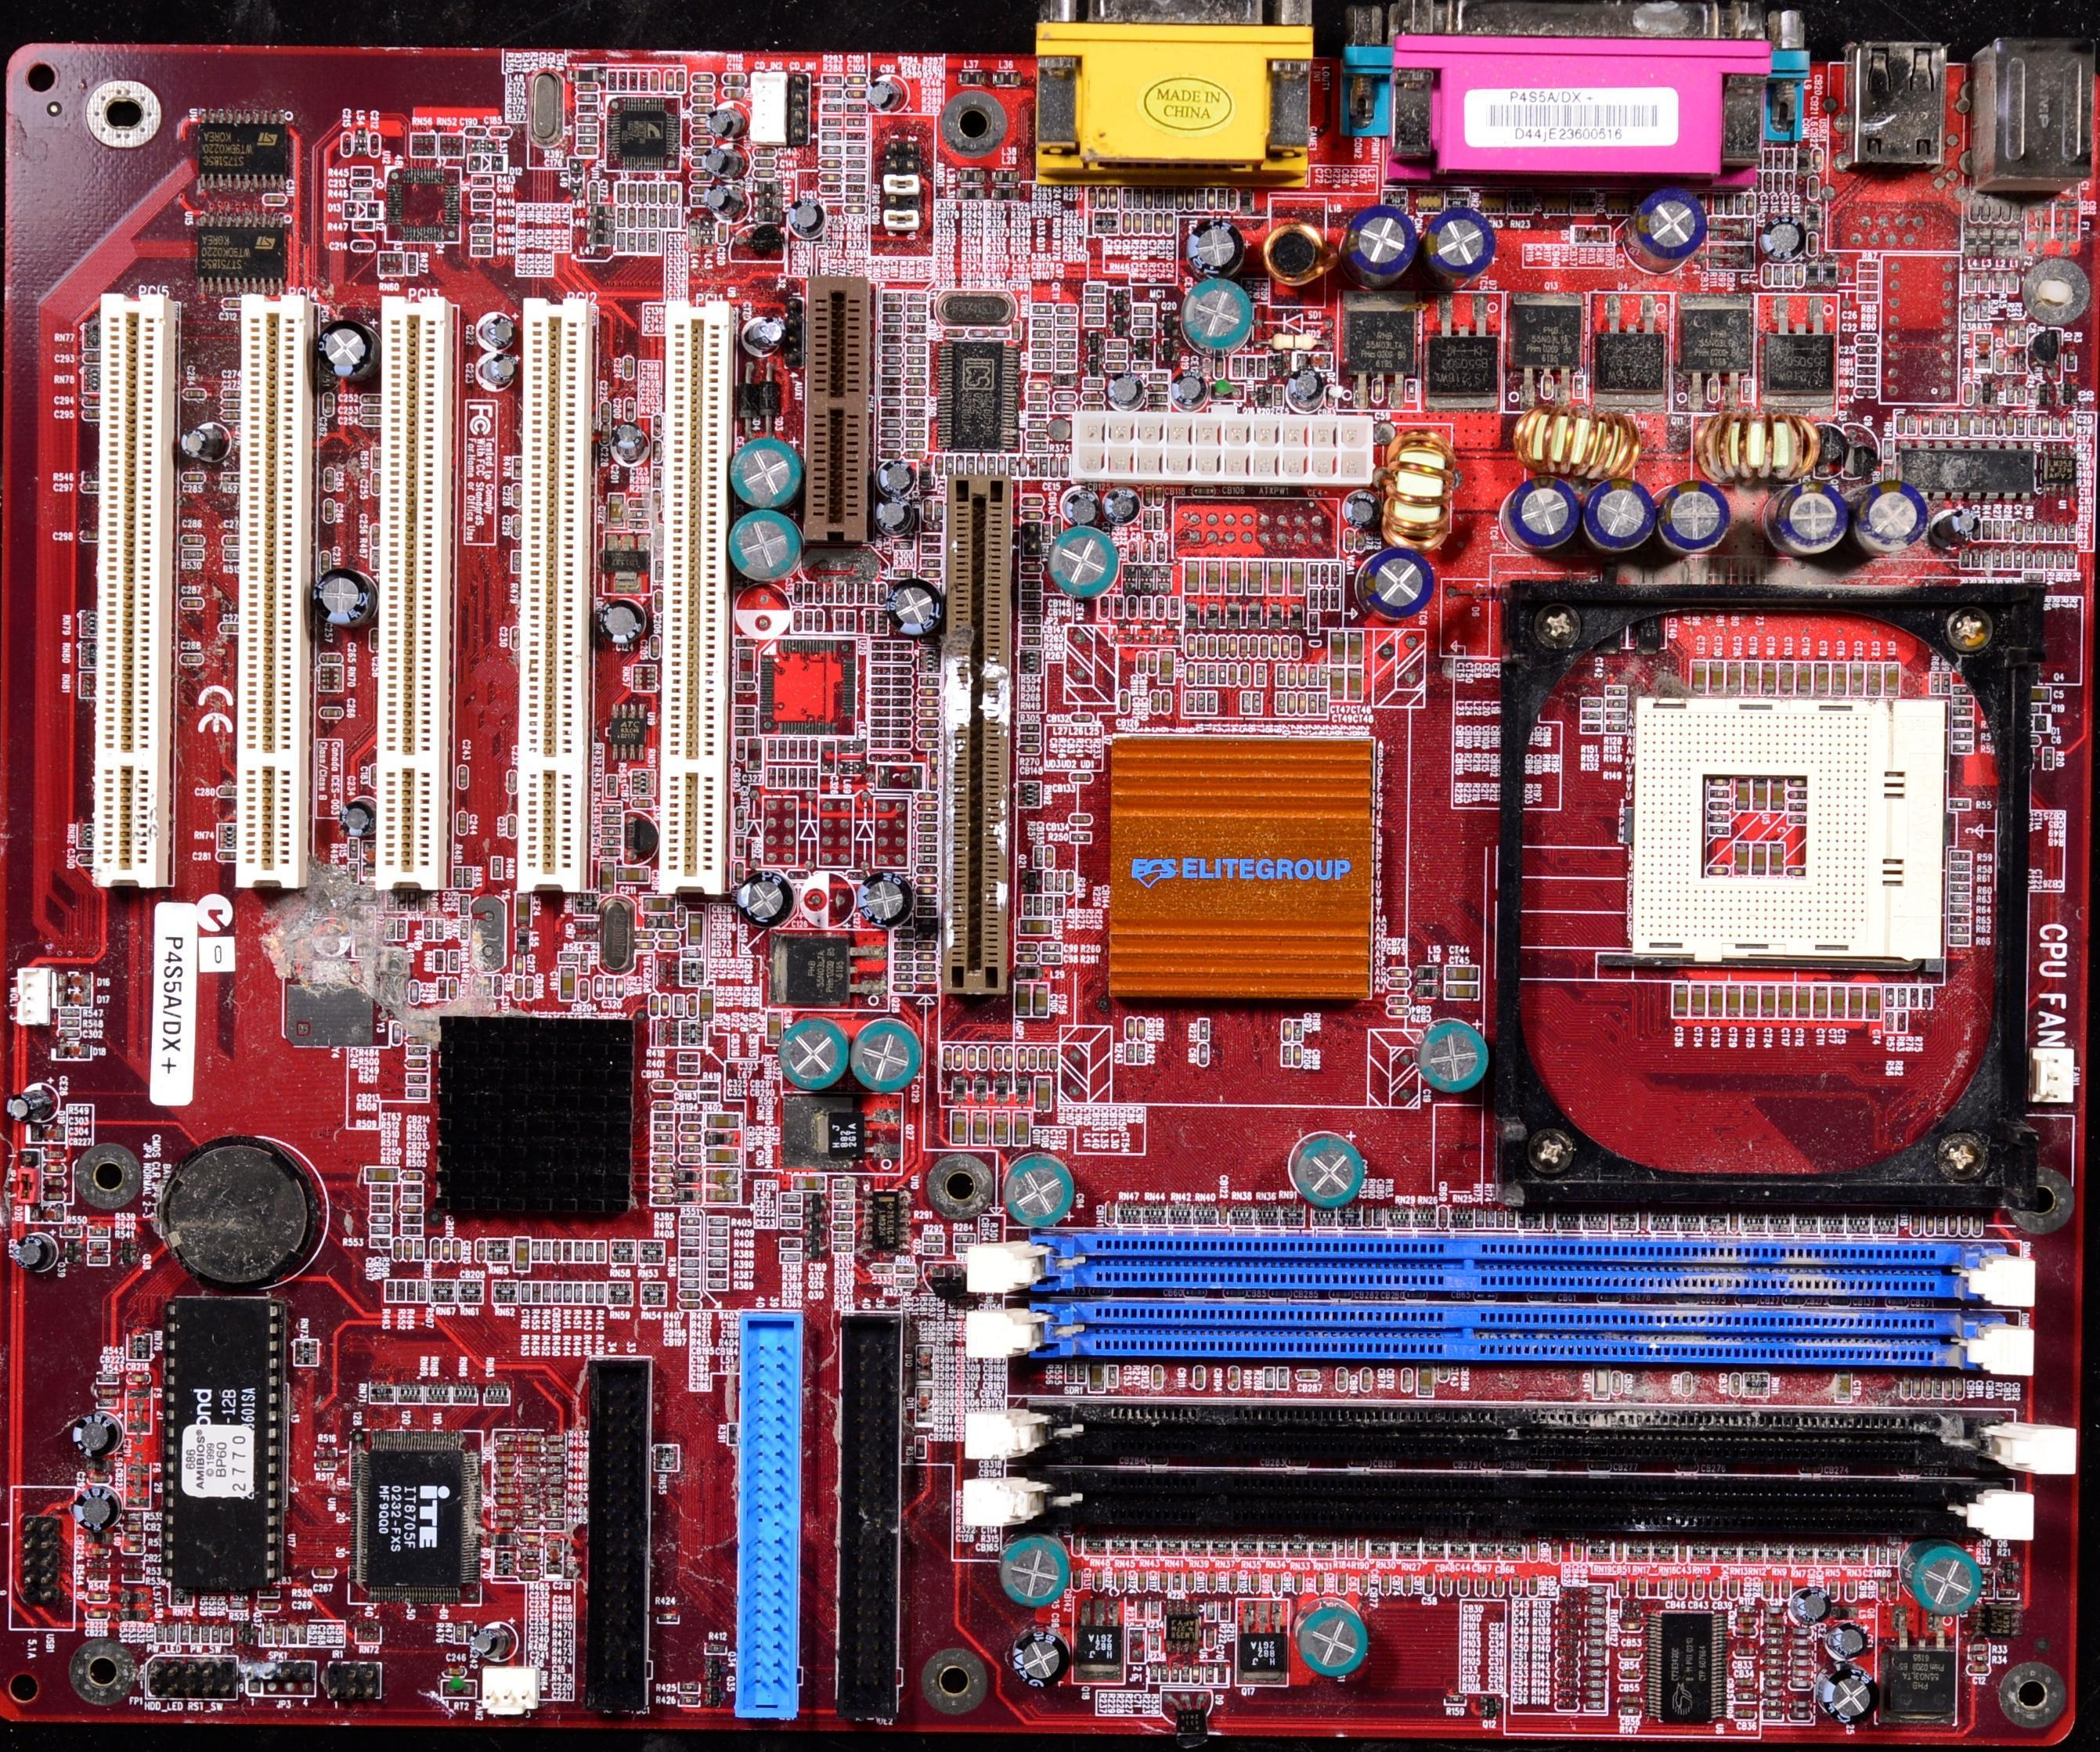Capacitor: (806, 882, 843, 917), (870, 881, 902, 914), (747, 881, 782, 911), (486, 315, 514, 342), (345, 805, 373, 831), (20, 1091, 49, 1111), (641, 896, 673, 910), (560, 970, 575, 997), (492, 359, 514, 379), (1418, 1369, 1433, 1393), (709, 1116, 738, 1127), (707, 1170, 734, 1182), (768, 1013, 781, 1036), (1016, 1116, 1029, 1139), (796, 1176, 822, 1188), (518, 1238, 528, 1265), (954, 1116, 964, 1141), (1037, 1081, 1047, 1104), (973, 1116, 983, 1138), (996, 1116, 1007, 1139), (712, 1188, 734, 1199), (1544, 373, 1553, 400), (709, 1149, 729, 1159), (185, 598, 202, 610), (752, 741, 761, 766), (618, 869, 637, 879), (1036, 990, 1046, 1009), (1841, 1377, 1850, 1396), (85, 1610, 105, 1620), (456, 764, 467, 783), (1071, 773, 1091, 784), (691, 914, 700, 939), (464, 128, 487, 135), (1400, 1577, 1409, 1600), (2032, 686, 2045, 700), (1021, 990, 1030, 1011), (45, 1191, 67, 1199), (370, 132, 378, 152), (1250, 1573, 1261, 1591), (1269, 1574, 1281, 1592), (1206, 1627, 1214, 1648), (947, 327, 965, 337), (1440, 1202, 1447, 1227), (1019, 942, 1037, 950), (702, 993, 709, 1013), (372, 1170, 390, 1179), (488, 128, 507, 135), (129, 1375, 148, 1384), (1073, 1538, 1081, 1557), (1621, 1699, 1640, 1706), (618, 186, 626, 204), (651, 415, 659, 434), (320, 553, 331, 569), (344, 132, 350, 155), (507, 817, 515, 835), (406, 1073, 424, 1082), (1362, 1208, 1370, 1225), (1900, 1379, 1907, 1396), (1734, 1648, 1751, 1656), (1775, 174, 1784, 192), (2067, 416, 2075, 434), (510, 516, 518, 534), (1023, 564, 1041, 572), (1129, 598, 1138, 616), (651, 636, 659, 654), (369, 767, 377, 784), (1705, 777, 1723, 784), (508, 773, 514, 793), (1337, 1574, 1343, 1595), (821, 157, 834, 168), (373, 525, 381, 545), (220, 786, 235, 795), (1710, 801, 1725, 809), (1196, 1369, 1203, 1385), (1676, 1545, 1685, 1561), (1315, 1574, 1324, 1590), (1226, 1576, 1235, 1592), (1357, 1577, 1366, 1592), (1622, 1650, 1637, 1659), (590, 184, 599, 200), (410, 982, 417, 1000), (1796, 267, 1803, 287), (1962, 416, 1969, 434), (994, 328, 1006, 337), (635, 798, 648, 807), (77, 856, 90, 865), (453, 982, 459, 999), (683, 1114, 699, 1120), (1106, 1204, 1113, 1221), (1638, 1212, 1645, 1228), (478, 1242, 485, 1260), (1229, 1369, 1237, 1386), (1730, 1375, 1737, 1393), (1532, 1541, 1538, 1558), (316, 1569, 333, 1577), (1094, 1573, 1102, 1586), (1118, 1571, 1125, 1588), (1139, 1573, 1146, 1591), (1295, 1574, 1303, 1592), (1424, 1577, 1431, 1593), (1618, 1580, 1626, 1593), (1966, 1667, 1983, 1674), (1189, 1666, 1198, 1681), (669, 184, 675, 203), (1089, 190, 1095, 208), (1122, 215, 1131, 229), (1997, 355, 2004, 371), (1710, 380, 1716, 398), (1858, 388, 1872, 398), (323, 499, 332, 515), (185, 534, 200, 542), (794, 585, 801, 601), (655, 591, 663, 609), (794, 611, 800, 627), (511, 631, 518, 648), (735, 639, 753, 645), (895, 654, 912, 661), (893, 688, 910, 696), (1164, 692, 1171, 709), (576, 82, 592, 89), (1710, 868, 1725, 876), (1293, 1048, 1300, 1063), (969, 1051, 976, 1067), (655, 1186, 669, 1192), (404, 1206, 420, 1213), (1545, 1213, 1552, 1228), (1730, 1214, 1737, 1228), (1936, 1217, 1943, 1233), (833, 1223, 850, 1229), (453, 1242, 459, 1257), (1405, 1372, 1410, 1388), (1186, 1571, 1193, 1586), (1207, 1574, 1214, 1590), (1382, 1577, 1388, 1593), (1624, 1623, 1640, 1630), (1559, 1668, 1575, 1676), (1739, 1710, 1755, 1718), (1136, 215, 1142, 229), (352, 243, 368, 251), (1763, 267, 1771, 283), (1855, 345, 1869, 351), (87, 351, 98, 363), (362, 396, 377, 403), (1057, 403, 1072, 409), (373, 475, 380, 491), (1127, 541, 1133, 556), (1243, 639, 1248, 654), (1788, 777, 1803, 782), (1441, 1579, 1450, 1592), (81, 532, 93, 540), (738, 863, 742, 881), (580, 980, 586, 999), (662, 996, 669, 1015), (406, 1238, 411, 1256), (2007, 326, 2013, 345), (906, 337, 925, 341), (1373, 378, 1377, 398), (1070, 817, 1085, 823), (897, 986, 911, 991), (1005, 1051, 1011, 1065), (1019, 1052, 1025, 1066), (681, 1083, 695, 1089), (45, 1177, 59, 1183), (1299, 1371, 1314, 1378), (1363, 1372, 1370, 1386), (1613, 1375, 1620, 1390), (1954, 1382, 1960, 1396), (1571, 1542, 1579, 1556), (1527, 1578, 1534, 1592), (1679, 1581, 1684, 1595), (1847, 1581, 1854, 1595), (1764, 1581, 1770, 1595), (259, 1604, 274, 1610), (1561, 1619, 1575, 1626), (1561, 1629, 1575, 1635), (1559, 1649, 1573, 1656), (1795, 1683, 1809, 1689), (354, 181, 369, 189), (224, 299, 238, 307), (1014, 323, 1021, 336), (1859, 337, 1873, 343), (626, 359, 633, 373), (906, 377, 918, 384), (625, 401, 631, 415), (1894, 417, 1902, 431), (882, 430, 897, 437), (2015, 523, 2022, 537), (1157, 600, 1164, 614), (370, 633, 377, 647), (1261, 640, 1268, 654), (1231, 641, 1238, 656), (323, 654, 337, 660), (1139, 654, 1146, 668), (1189, 668, 1194, 681), (1122, 693, 1129, 705), (1073, 716, 1087, 721), (1068, 874, 1073, 890), (1139, 1019, 1145, 1036), (59, 1030, 77, 1036), (1221, 1206, 1226, 1224), (1153, 1369, 1159, 1386), (1340, 1370, 1345, 1387), (1945, 1381, 1950, 1397), (627, 182, 633, 199), (638, 184, 643, 202), (1100, 191, 1106, 209), (1813, 233, 1818, 251), (975, 330, 986, 337), (324, 398, 330, 416), (604, 401, 609, 418), (654, 442, 660, 461), (324, 470, 330, 486), (1347, 532, 1352, 550), (1142, 541, 1147, 557), (697, 85, 709, 91), (659, 932, 671, 938), (1044, 954, 1055, 961), (1048, 1052, 1055, 1065), (659, 1080, 672, 1087), (659, 1103, 672, 1110), (655, 1166, 668, 1173), (654, 1176, 667, 1182), (525, 1536, 536, 1542), (884, 401, 897, 407), (85, 410, 98, 416), (2041, 418, 2048, 431), (905, 454, 917, 460), (922, 571, 936, 576), (222, 628, 234, 634), (738, 683, 750, 690), (677, 74, 683, 90), (459, 814, 464, 831), (920, 879, 934, 883), (420, 895, 425, 910), (691, 998, 695, 1015), (1129, 1019, 1133, 1036), (1282, 1023, 1287, 1039), (945, 1050, 951, 1065), (692, 106, 708, 111), (683, 1125, 698, 1130), (43, 1166, 59, 1171), (1681, 1375, 1687, 1392), (1359, 1540, 1364, 1555), (89, 1546, 104, 1551), (1614, 1542, 1619, 1558), (1157, 1573, 1163, 1588), (1828, 1583, 1834, 1598), (756, 161, 773, 168), (1764, 174, 1768, 190), (1788, 174, 1792, 190), (1231, 193, 1237, 208), (1156, 214, 1161, 229), (720, 222, 726, 238), (1216, 362, 1221, 376), (1055, 393, 1070, 398), (2005, 416, 2011, 431), (1000, 459, 1004, 474), (1021, 460, 1026, 475), (1050, 460, 1055, 475), (186, 475, 201, 481), (629, 500, 643, 506), (1359, 532, 1363, 548), (849, 586, 854, 601), (1024, 595, 1039, 600), (1100, 599, 1106, 615), (815, 612, 821, 627), (1199, 637, 1204, 654), (1139, 656, 1145, 672), (1150, 656, 1155, 672), (1241, 666, 1247, 681), (920, 690, 936, 695), (1164, 694, 1171, 709), (1290, 696, 1294, 711), (893, 721, 909, 726), (737, 740, 741, 755), (810, 741, 816, 757), (513, 484, 516, 507), (226, 535, 235, 544), (652, 72, 657, 86), (1789, 792, 1799, 799), (666, 74, 672, 87), (851, 77, 861, 83), (1790, 869, 1803, 873), (679, 912, 684, 925), (634, 931, 649, 936), (1042, 944, 1056, 950), (1391, 998, 1405, 1004), (393, 1028, 399, 1043), (411, 1038, 423, 1044), (954, 1051, 959, 1065), (1030, 1054, 1037, 1064), (579, 114, 593, 120), (406, 1171, 420, 1177), (370, 1217, 384, 1223), (1949, 1219, 1954, 1232), (1961, 1221, 1967, 1232), (433, 1240, 437, 1260), (684, 1271, 698, 1276), (684, 1280, 698, 1285), (1438, 1367, 1446, 1378), (1911, 1380, 1916, 1394), (502, 1486, 512, 1492), (578, 148, 591, 153), (127, 1524, 139, 1530), (128, 1545, 139, 1552), (521, 1574, 536, 1580), (1460, 1577, 1466, 1591), (1513, 1579, 1520, 1591), (1564, 1597, 1576, 1602), (1740, 1628, 1750, 1635), (1799, 1650, 1808, 1657), (446, 1670, 460, 1675), (1795, 1671, 1808, 1676), (1620, 1672, 1635, 1678), (1741, 1694, 1755, 1700), (823, 174, 838, 180), (693, 184, 706, 190), (1809, 180, 1814, 194), (1178, 194, 1184, 208), (474, 225, 488, 229), (911, 389, 922, 395), (186, 391, 199, 396), (223, 393, 238, 397), (1085, 395, 1099, 401), (362, 409, 376, 413), (364, 419, 374, 425), (936, 456, 940, 470), (1027, 497, 1038, 503), (1027, 511, 1037, 518), (1023, 582, 1037, 588), (1190, 640, 1196, 653), (1220, 640, 1225, 653), (1281, 641, 1285, 655), (1272, 643, 1278, 654), (1152, 692, 1156, 706), (919, 701, 933, 705), (921, 729, 935, 734), (1023, 747, 1036, 752), (694, 74, 705, 80), (651, 995, 656, 1014), (556, 1243, 561, 1262), (471, 194, 491, 197), (922, 806, 933, 810), (738, 812, 743, 825), (1046, 849, 1052, 862), (919, 867, 931, 872), (920, 888, 931, 892), (1021, 956, 1032, 961), (518, 959, 523, 972), (1392, 969, 1404, 975), (918, 975, 931, 979), (697, 95, 710, 100), (1393, 982, 1406, 987), (1390, 1008, 1403, 1012), (850, 106, 861, 111), (680, 1135, 693, 1140), (655, 1156, 668, 1162), (655, 1198, 668, 1203), (1912, 1219, 1917, 1231), (555, 1285, 559, 1296), (522, 1286, 527, 1299), (524, 1447, 535, 1451), (1549, 1545, 1554, 1556), (523, 1563, 535, 1568), (1660, 1582, 1666, 1595), (1493, 1583, 1499, 1595), (1728, 1583, 1734, 1595), (690, 157, 701, 163), (91, 1592, 103, 1597), (1562, 1610, 1575, 1617), (274, 1631, 280, 1642), (1738, 1679, 1751, 1684), (1766, 1691, 1777, 1696), (1561, 1702, 1574, 1707), (691, 171, 703, 175), (660, 185, 664, 197), (1111, 190, 1116, 202), (1164, 217, 1169, 229), (882, 369, 893, 375), (1031, 382, 1043, 388), (85, 398, 98, 404), (225, 413, 238, 419), (1996, 420, 2001, 432), (883, 441, 894, 445), (956, 458, 961, 470), (1063, 460, 1067, 472), (924, 503, 929, 515), (894, 667, 907, 672), (893, 678, 905, 683), (895, 709, 907, 716), (324, 712, 336, 716), (922, 741, 934, 746), (932, 754, 936, 766), (725, 74, 738, 81), (932, 774, 936, 787), (660, 944, 677, 949), (518, 979, 521, 997), (982, 1050, 986, 1067), (1555, 1693, 1573, 1696), (1230, 666, 1234, 683), (920, 719, 936, 724), (218, 854, 234, 858), (582, 96, 594, 102), (528, 981, 532, 997), (1041, 1054, 1045, 1068), (1926, 1220, 1932, 1231), (395, 1240, 398, 1255), (872, 1267, 888, 1271), (697, 127, 709, 132), (100, 1390, 116, 1393), (526, 1435, 536, 1440), (499, 1445, 510, 1451), (500, 1477, 511, 1481), (498, 1522, 510, 1527), (1476, 1581, 1481, 1592), (1712, 1582, 1719, 1594), (1796, 1628, 1807, 1634), (1561, 1638, 1571, 1642), (1796, 1639, 1806, 1643), (1558, 1658, 1568, 1663), (825, 186, 836, 191), (1748, 196, 1751, 211), (1719, 196, 1723, 212), (851, 205, 861, 211), (718, 226, 723, 242), (1965, 383, 1970, 399), (1084, 404, 1099, 407), (885, 420, 895, 425), (1156, 488, 1160, 504), (1252, 639, 1255, 653), (1210, 638, 1214, 654), (1290, 669, 1293, 684), (920, 711, 935, 714), (922, 796, 936, 800), (919, 827, 933, 831), (920, 955, 933, 958), (445, 1242, 448, 1256), (1923, 1380, 1928, 1394), (497, 1458, 511, 1462), (1639, 1580, 1644, 1593), (1784, 1582, 1788, 1597), (1815, 153, 1820, 168), (1558, 1682, 1571, 1686), (1207, 194, 1211, 207), (980, 458, 983, 473), (1146, 488, 1150, 503), (881, 586, 885, 600), (816, 586, 821, 600), (184, 657, 197, 661), (696, 146, 705, 151), (1769, 1606, 1778, 1611), (1796, 1700, 1806, 1704), (85, 486, 93, 492), (896, 741, 906, 745), (894, 754, 904, 759), (1202, 1047, 1206, 1060), (995, 1052, 999, 1065), (682, 1158, 695, 1162), (682, 1260, 694, 1264), (696, 137, 708, 141), (1796, 1711, 1808, 1716), (1185, 194, 1190, 206), (226, 402, 238, 406), (640, 942, 648, 946), (922, 944, 933, 949), (1975, 1223, 1979, 1232), (684, 1291, 695, 1296), (684, 1302, 695, 1307), (756, 150, 768, 154), (1695, 1582, 1698, 1594), (756, 171, 766, 175), (693, 198, 699, 204), (886, 351, 897, 355), (882, 452, 890, 458), (2031, 737, 2037, 743), (1568, 1587, 1576, 1590), (1770, 1617, 1779, 1622), (1737, 1619, 1754, 1622), (1796, 1661, 1805, 1665), (651, 184, 654, 203), (884, 359, 893, 362), (874, 754, 883, 757), (1157, 541, 1160, 556), (695, 117, 703, 120), (1299, 669, 1301, 684), (1301, 697, 1304, 712), (498, 1498, 511, 1501), (1923, 419, 1926, 431), (850, 92, 859, 95), (500, 1468, 510, 1470)
Connector: (105, 294, 165, 863), (529, 295, 576, 857), (674, 311, 715, 871), (246, 296, 285, 861), (398, 306, 430, 874)
IC: (360, 1437, 467, 1594), (774, 643, 848, 727), (1658, 1614, 1714, 1719), (948, 342, 1001, 452), (204, 229, 280, 283), (200, 124, 281, 173), (613, 105, 677, 166), (867, 1196, 896, 1241), (1164, 1612, 1197, 1644), (612, 718, 642, 741), (2047, 456, 2068, 483), (1989, 1604, 2009, 1631), (496, 1552, 511, 1572)
Resistor: (101, 1372, 121, 1382), (699, 1080, 717, 1091), (729, 1424, 738, 1445), (915, 1438, 925, 1456), (124, 1563, 145, 1571), (1952, 850, 1968, 860), (1023, 898, 1033, 913), (424, 921, 435, 938), (1135, 318, 1149, 327), (1265, 1369, 1274, 1386), (407, 255, 415, 272), (653, 470, 662, 487), (2045, 750, 2054, 767), (60, 1010, 81, 1017), (1860, 355, 1875, 365), (1950, 798, 1965, 808), (1070, 834, 1085, 842), (734, 837, 742, 853), (489, 859, 500, 874), (388, 920, 397, 936), (400, 922, 408, 937), (373, 1224, 389, 1232), (89, 1255, 104, 1264), (317, 1447, 334, 1455), (705, 1643, 720, 1653), (1148, 1667, 1156, 1682), (640, 235, 648, 251), (2017, 326, 2026, 342), (1254, 358, 1262, 373), (1855, 367, 1869, 377), (224, 474, 239, 483), (619, 72, 626, 90), (348, 863, 356, 882), (557, 954, 577, 960), (576, 123, 595, 130), (1110, 342, 1121, 351), (1708, 814, 1726, 821), (1952, 863, 1968, 871), (464, 871, 472, 885), (440, 979, 446, 996), (1908, 990, 1918, 1004), (674, 996, 681, 1012), (654, 1146, 671, 1152), (418, 1282, 425, 1299), (821, 130, 839, 139), (88, 1571, 105, 1577), (124, 1574, 142, 1581), (851, 160, 865, 168), (1448, 1696, 1465, 1703), (677, 1698, 695, 1705), (354, 194, 371, 200), (640, 209, 648, 224), (1060, 341, 1078, 348), (1573, 380, 1580, 398), (1741, 380, 1747, 398), (908, 437, 922, 446), (653, 494, 659, 510), (514, 550, 519, 569), (368, 551, 376, 568), (655, 561, 661, 579), (734, 717, 751, 724), (1608, 723, 1622, 730), (825, 75, 841, 82), (1709, 790, 1726, 796), (1035, 848, 1041, 863), (387, 892, 394, 908), (683, 949, 697, 956), (896, 954, 911, 960), (436, 951, 443, 967), (45, 1149, 62, 1156), (373, 1207, 388, 1213), (1474, 1209, 1481, 1225), (682, 1238, 697, 1244), (93, 1242, 108, 1249), (541, 1241, 547, 1256), (1279, 1371, 1286, 1386), (318, 1462, 333, 1469), (124, 1513, 139, 1519), (1773, 152, 1781, 167), (262, 1586, 277, 1593), (660, 1614, 676, 1622), (453, 1624, 460, 1639), (1968, 1642, 1983, 1649), (680, 1683, 695, 1689), (846, 174, 862, 181), (1734, 196, 1741, 212), (660, 211, 667, 226), (354, 222, 370, 228), (474, 247, 491, 254), (885, 292, 900, 299), (1136, 308, 1152, 315), (1153, 393, 1169, 399), (906, 398, 922, 406), (1908, 417, 1915, 433), (1884, 442, 1890, 459), (184, 553, 198, 559), (222, 553, 238, 559), (837, 585, 843, 604), (1312, 667, 1319, 684), (920, 678, 934, 685), (1023, 724, 1038, 730), (835, 1181, 848, 1188), (2008, 278, 2016, 290), (655, 1137, 674, 1141), (388, 1282, 394, 1301), (1860, 294, 1878, 301), (1406, 381, 1412, 402), (514, 456, 518, 475), (1143, 510, 1148, 528), (857, 586, 863, 604), (1954, 884, 1969, 891), (1950, 906, 1965, 913), (1957, 935, 1971, 942), (449, 952, 456, 966), (1899, 1012, 1907, 1027), (680, 1053, 695, 1060), (822, 105, 835, 112), (699, 1095, 713, 1102), (1496, 1210, 1503, 1224), (709, 1231, 723, 1237), (576, 1245, 583, 1258), (783, 1253, 797, 1259), (1109, 1368, 1116, 1383), (102, 1399, 114, 1405), (1763, 150, 1770, 164), (1171, 1574, 1179, 1588), (1999, 1590, 2012, 1597), (1204, 1667, 1211, 1683), (1590, 1700, 1605, 1707), (475, 175, 488, 182), (1135, 191, 1141, 205), (628, 235, 634, 249), (1966, 276, 1972, 289), (907, 290, 921, 298), (1245, 359, 1253, 373), (630, 522, 644, 529), (893, 540, 907, 547), (1021, 616, 1035, 622), (1219, 665, 1225, 680), (1939, 676, 1947, 690), (1023, 736, 1037, 743), (768, 741, 774, 755), (455, 871, 460, 888), (1888, 989, 1892, 1006), (373, 1186, 390, 1191), (848, 120, 864, 126), (373, 1238, 384, 1246), (1590, 1606, 1602, 1613), (181, 1626, 186, 1643), (352, 166, 363, 174), (1124, 189, 1129, 207), (630, 207, 635, 225), (2069, 351, 2073, 369), (1233, 359, 1239, 377), (374, 449, 381, 466), (935, 499, 940, 518), (825, 585, 831, 601), (869, 585, 874, 601), (1935, 674, 1939, 691), (734, 728, 751, 734), (789, 766, 796, 784), (1790, 804, 1802, 810), (604, 839, 618, 845), (1954, 914, 1967, 923), (438, 921, 444, 935), (606, 980, 612, 993), (403, 1185, 416, 1192), (785, 1218, 797, 1226), (67, 1224, 79, 1231), (406, 1227, 419, 1235), (712, 1280, 724, 1286), (846, 132, 858, 137), (548, 1522, 559, 1528), (1137, 1603, 1144, 1617), (1217, 1604, 1225, 1617), (1151, 1606, 1158, 1617), (1622, 1707, 1635, 1713), (1216, 193, 1222, 204), (1165, 194, 1171, 205), (1864, 283, 1875, 289), (886, 302, 899, 309), (1085, 316, 1098, 323), (1138, 361, 1150, 368), (1088, 377, 1101, 384), (1153, 384, 1164, 390), (2031, 420, 2037, 432), (1971, 420, 1978, 433), (2047, 526, 2052, 538), (1996, 553, 2002, 564), (1583, 699, 1597, 706), (460, 896, 466, 911), (1888, 1014, 1893, 1030), (1297, 1021, 1301, 1037), (1200, 1022, 1206, 1038), (1127, 1045, 1132, 1059), (1284, 1047, 1290, 1064), (578, 104, 593, 110), (410, 1089, 426, 1095), (373, 1197, 388, 1203), (710, 1218, 726, 1224), (895, 1264, 911, 1269), (532, 1284, 536, 1298), (407, 1284, 412, 1299), (852, 148, 867, 154), (1146, 217, 1152, 233), (906, 358, 921, 362), (2009, 355, 2014, 371), (1027, 406, 1043, 411), (907, 430, 922, 435), (2007, 521, 2012, 537), (2027, 523, 2032, 538), (921, 546, 937, 551), (921, 558, 937, 564), (895, 570, 911, 575), (805, 611, 810, 627), (838, 613, 843, 629), (1257, 668, 1262, 684), (1950, 690, 1966, 696), (1244, 693, 1248, 708), (1310, 694, 1315, 709), (736, 707, 751, 712), (1606, 713, 1622, 718), (1954, 732, 1968, 738), (769, 768, 774, 784), (810, 768, 815, 784), (608, 777, 615, 792), (609, 74, 614, 87), (602, 819, 616, 824), (602, 830, 615, 835), (1953, 874, 1967, 880), (1057, 876, 1062, 889), (1956, 895, 1970, 900), (398, 894, 402, 908), (409, 894, 413, 909), (1954, 926, 1966, 933), (897, 933, 910, 939), (899, 975, 911, 979), (62, 1020, 75, 1026), (412, 1047, 423, 1053), (833, 1193, 845, 1199), (824, 119, 836, 125), (404, 1217, 419, 1221), (1506, 1214, 1513, 1227), (684, 1218, 698, 1224), (684, 1228, 695, 1235), (927, 1234, 941, 1240), (835, 1246, 850, 1249), (928, 1245, 941, 1250), (955, 1246, 966, 1251), (709, 1249, 723, 1253), (565, 1245, 571, 1258), (595, 1246, 601, 1259), (712, 1269, 725, 1274), (896, 1278, 911, 1284), (543, 1285, 549, 1300), (1080, 1367, 1084, 1380), (1067, 1366, 1073, 1381), (824, 146, 837, 151), (500, 1510, 512, 1515), (92, 1563, 103, 1570), (231, 1601, 244, 1606), (1207, 1603, 1212, 1618), (193, 1626, 197, 1640), (157, 1626, 162, 1640), (1593, 1661, 1605, 1667), (618, 209, 622, 224), (672, 211, 677, 225), (1861, 261, 1871, 268), (1980, 278, 1984, 290), (1034, 303, 1048, 308), (1060, 318, 1071, 324), (886, 324, 897, 330), (1037, 341, 1050, 346), (907, 347, 921, 351), (1035, 362, 1045, 367), (1151, 374, 1166, 380), (1858, 380, 1872, 385), (1948, 420, 1956, 431), (1932, 420, 1940, 431), (1985, 421, 1992, 433), (1032, 443, 1047, 449), (949, 456, 954, 468), (1996, 522, 2001, 536), (2035, 553, 2040, 567), (805, 586, 809, 600), (1145, 602, 1149, 615), (1023, 627, 1036, 633), (1198, 667, 1203, 682), (1606, 687, 1617, 694), (1189, 694, 1194, 707), (1611, 698, 1622, 705), (1953, 744, 1964, 752), (789, 743, 796, 756), (780, 742, 785, 756), (799, 769, 804, 783), (416, 1240, 419, 1258), (1788, 817, 1799, 824), (1711, 829, 1723, 835), (1035, 898, 1040, 910), (897, 943, 909, 948), (617, 982, 622, 995), (1925, 992, 1930, 1004), (1899, 992, 1905, 1004), (1138, 1047, 1144, 1058), (680, 1065, 693, 1070), (835, 1235, 847, 1241), (597, 1286, 603, 1299), (1936, 1382, 1941, 1394), (1591, 1598, 1604, 1604), (301, 1628, 305, 1640), (222, 1629, 227, 1640), (1592, 1692, 1605, 1696), (851, 195, 863, 200), (1727, 199, 1731, 211), (473, 237, 485, 243), (652, 236, 658, 249), (885, 335, 897, 341), (2018, 357, 2024, 369), (907, 367, 920, 373), (907, 412, 920, 416), (2054, 418, 2059, 431), (2019, 420, 2023, 433), (1154, 512, 1160, 525), (2016, 553, 2021, 565), (2026, 553, 2030, 565), (1973, 554, 1978, 566), (1984, 554, 1990, 566), (2056, 554, 2062, 566), (1023, 638, 1036, 643), (874, 654, 886, 659), (1208, 667, 1214, 680), (1957, 697, 1968, 703), (1955, 710, 1968, 714), (1954, 722, 1965, 726), (550, 1476, 560, 1482), (1593, 1629, 1604, 1635), (1775, 266, 1780, 283), (1885, 467, 1892, 477), (1985, 521, 1989, 538), (1117, 599, 1122, 617), (779, 767, 784, 785), (604, 806, 615, 813), (921, 836, 932, 842), (352, 840, 356, 856), (1046, 875, 1051, 891), (464, 921, 468, 937), (595, 979, 599, 993), (783, 1195, 794, 1200), (786, 1206, 798, 1211), (837, 1212, 848, 1217), (88, 1227, 100, 1233), (785, 1240, 796, 1245), (587, 1246, 593, 1257), (548, 1437, 563, 1440), (525, 1511, 535, 1516), (125, 1533, 136, 1538), (523, 1552, 534, 1556), (1788, 153, 1794, 164), (1743, 1607, 1752, 1613), (1968, 1656, 1983, 1660), (1160, 1667, 1164, 1677), (1171, 1667, 1177, 1678), (1766, 1700, 1777, 1704), (849, 184, 860, 189), (1784, 269, 1789, 279), (1089, 288, 1099, 294), (887, 315, 898, 321), (908, 316, 918, 320), (1036, 318, 1047, 323), (1036, 330, 1047, 334), (1060, 330, 1071, 337), (1059, 352, 1070, 357), (633, 510, 644, 517), (1964, 555, 1968, 565), (875, 669, 886, 673), (1278, 667, 1282, 683), (1322, 667, 1326, 684), (875, 678, 886, 683), (1278, 694, 1283, 710), (874, 730, 885, 736), (874, 741, 885, 747), (1055, 899, 1059, 913), (826, 92, 833, 99), (405, 1199, 418, 1202), (956, 1235, 969, 1239), (397, 1282, 402, 1297), (586, 1286, 590, 1301), (1977, 1568, 1991, 1571), (204, 1628, 207, 1642), (1588, 1682, 1601, 1686), (1200, 191, 1203, 205), (618, 233, 620, 247), (1970, 305, 1973, 319), (907, 420, 922, 424), (968, 457, 971, 471), (2004, 553, 2008, 567), (849, 614, 853, 628), (875, 644, 887, 648), (875, 698, 883, 704), (1200, 694, 1203, 708), (1322, 697, 1326, 712), (801, 742, 805, 756), (658, 1126, 667, 1131), (564, 1285, 568, 1294), (550, 1456, 561, 1461), (525, 1468, 533, 1473), (525, 1486, 533, 1491), (1593, 1619, 1602, 1625), (1770, 1649, 1779, 1654), (1057, 361, 1065, 366), (887, 377, 897, 382), (87, 474, 96, 480), (2029, 705, 2037, 711), (1583, 725, 1592, 730), (633, 74, 637, 86), (921, 816, 933, 820), (922, 847, 933, 851), (921, 857, 933, 861), (1046, 899, 1051, 912), (583, 957, 586, 970), (918, 964, 931, 968), (411, 1059, 424, 1064), (655, 1115, 669, 1118), (684, 1248, 695, 1252), (710, 1263, 723, 1266), (575, 1285, 579, 1296), (549, 1447, 561, 1451), (524, 1457, 535, 1462), (547, 1487, 559, 1491), (168, 1628, 172, 1640), (265, 1629, 269, 1641), (290, 1630, 294, 1642), (1154, 193, 1158, 204), (910, 306, 922, 311), (1035, 351, 1047, 356), (886, 388, 899, 393), (1008, 460, 1012, 473), (2036, 525, 2040, 537), (2056, 526, 2060, 538), (924, 536, 936, 541), (2048, 553, 2051, 564), (1172, 600, 1176, 612), (868, 614, 872, 626), (875, 688, 887, 693), (1254, 694, 1258, 706), (876, 711, 887, 716), (641, 74, 646, 86), (606, 850, 616, 855), (1485, 1211, 1490, 1221), (579, 137, 590, 141), (502, 1435, 512, 1438), (525, 1478, 535, 1481), (1981, 1592, 1988, 1596), (1770, 1631, 1778, 1636), (212, 1630, 217, 1640), (1591, 1649, 1598, 1655), (1184, 1668, 1189, 1679), (1766, 1710, 1774, 1715), (1982, 305, 1986, 315), (1087, 310, 1098, 314), (1110, 353, 1121, 358), (886, 410, 897, 413), (2066, 528, 2070, 539), (2066, 557, 2071, 566), (1209, 695, 1213, 706), (873, 721, 884, 726), (919, 898, 929, 901), (922, 910, 929, 914), (712, 1241, 721, 1244), (535, 1242, 538, 1259), (550, 1467, 558, 1471), (525, 1498, 534, 1501), (549, 1498, 558, 1502), (549, 1512, 558, 1515), (525, 1525, 534, 1529), (1593, 1671, 1603, 1675), (1089, 299, 1098, 303), (1030, 422, 1038, 425), (1042, 459, 1045, 476), (836, 1206, 850, 1209), (1981, 1580, 1988, 1582), (1593, 1588, 1602, 1592), (1592, 1640, 1599, 1644), (1770, 1681, 1777, 1685), (899, 965, 911, 968), (652, 211, 655, 224), (991, 458, 993, 471), (1770, 1641, 1776, 1644), (1769, 1671, 1779, 1672), (1995, 278, 1997, 288), (1769, 1660, 1777, 1662), (1862, 275, 1871, 277), (908, 326, 918, 328), (1583, 714, 1592, 717)
Transistor: (1885, 1648, 1947, 1715), (776, 938, 841, 995), (1512, 300, 1571, 359), (1692, 303, 1743, 362), (1351, 308, 1401, 362), (1243, 1605, 1282, 1671), (1770, 336, 1825, 383), (1592, 333, 1644, 378), (1436, 339, 1479, 393), (1082, 1608, 1117, 1673), (814, 1116, 864, 1159), (608, 535, 644, 586), (2031, 335, 2059, 370), (627, 817, 651, 856), (1161, 312, 1178, 339), (1110, 289, 1128, 310), (1999, 1559, 2016, 1582), (1025, 870, 1038, 890), (1113, 315, 1127, 333), (1481, 1700, 1493, 1718), (2060, 384, 2071, 403), (1088, 331, 1102, 346), (1138, 341, 1149, 358), (1984, 386, 1994, 404), (1084, 357, 1098, 368), (1164, 344, 1174, 359), (2040, 387, 2047, 405)
